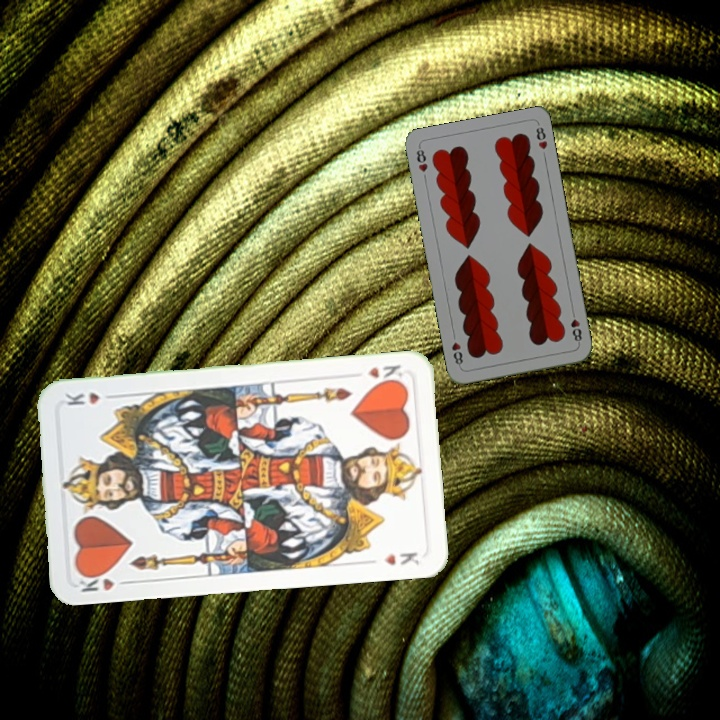H8: (567, 306, 584, 347), (412, 143, 430, 175)
HK: (74, 567, 133, 594), (364, 361, 405, 387)
